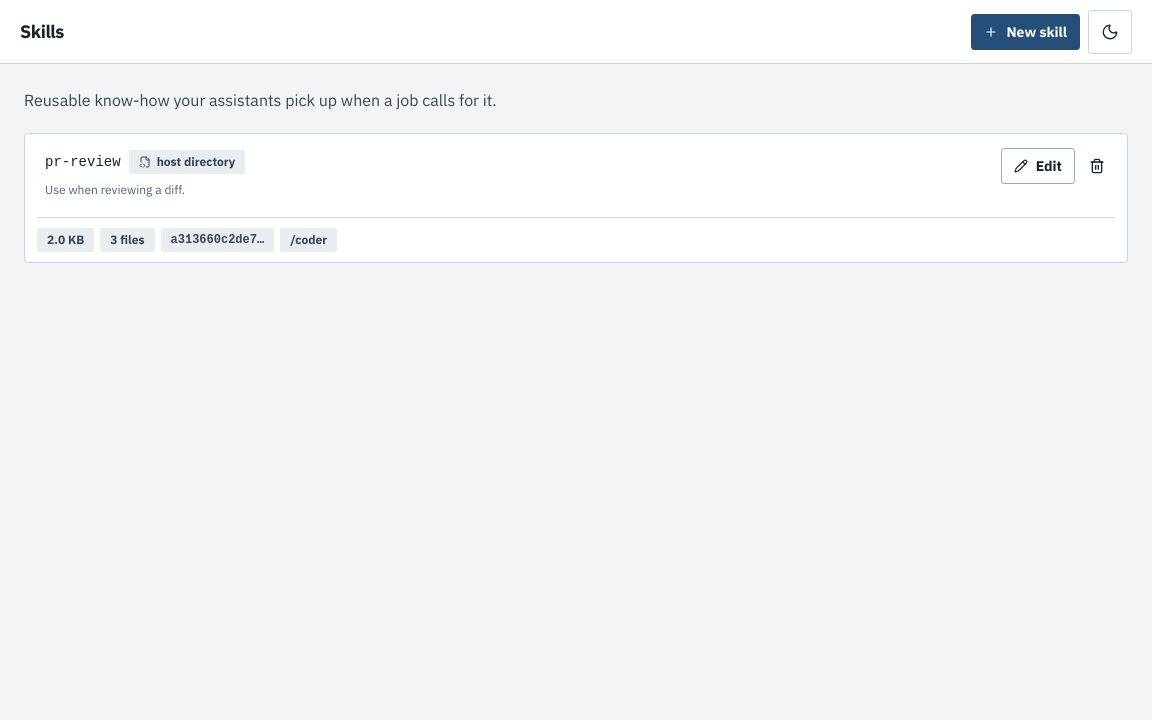
Test case: SkillsPanel › does not offer to save a multi-file skill as SKILL.md alone
Step 1. Click the button with aria-label "Edit pr-review" → (1038, 166), box x1=1001 y1=148 x2=1075 y2=184
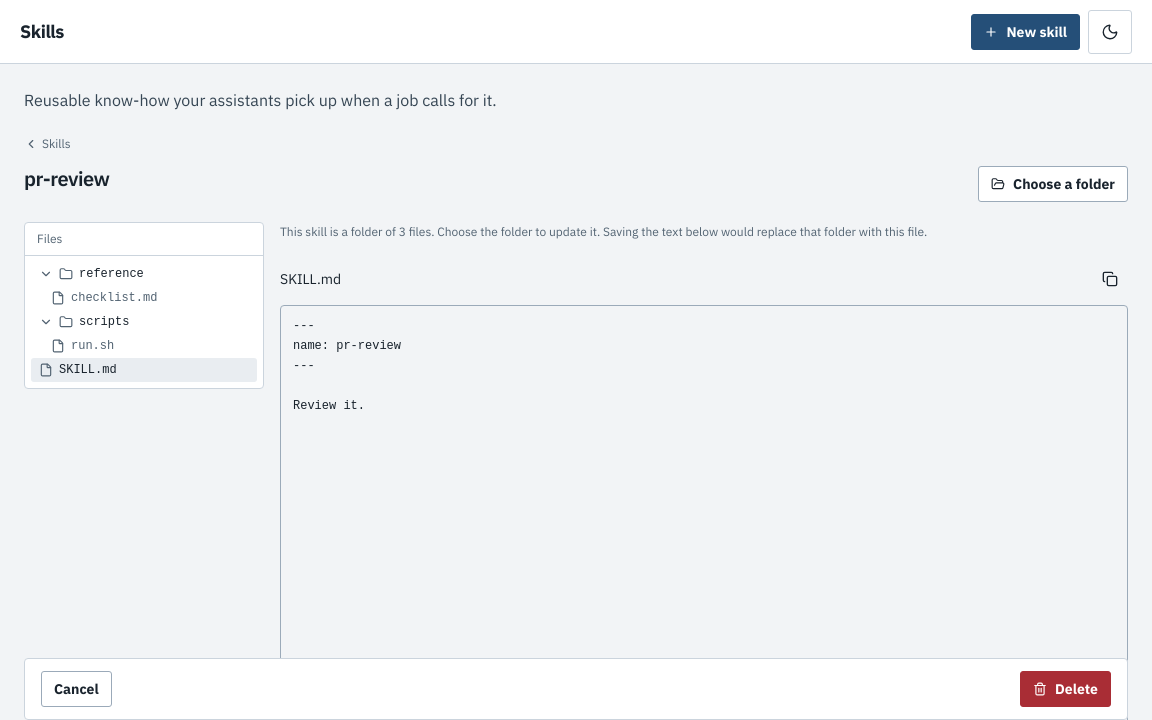
Now the text with test id "skill-folder-note" shows "folder of 3 files", box x1=280 y1=224 x2=927 y2=239
Now the button with aria-label "Open reference/checklist.md" is shown, box x1=31 y1=286 x2=257 y2=310
Now the button with aria-label "Open scripts/run.sh" is shown
Step 2. Click the button with aria-label "Open scripts/run.sh" → (144, 346), box x1=31 y1=334 x2=257 y2=358
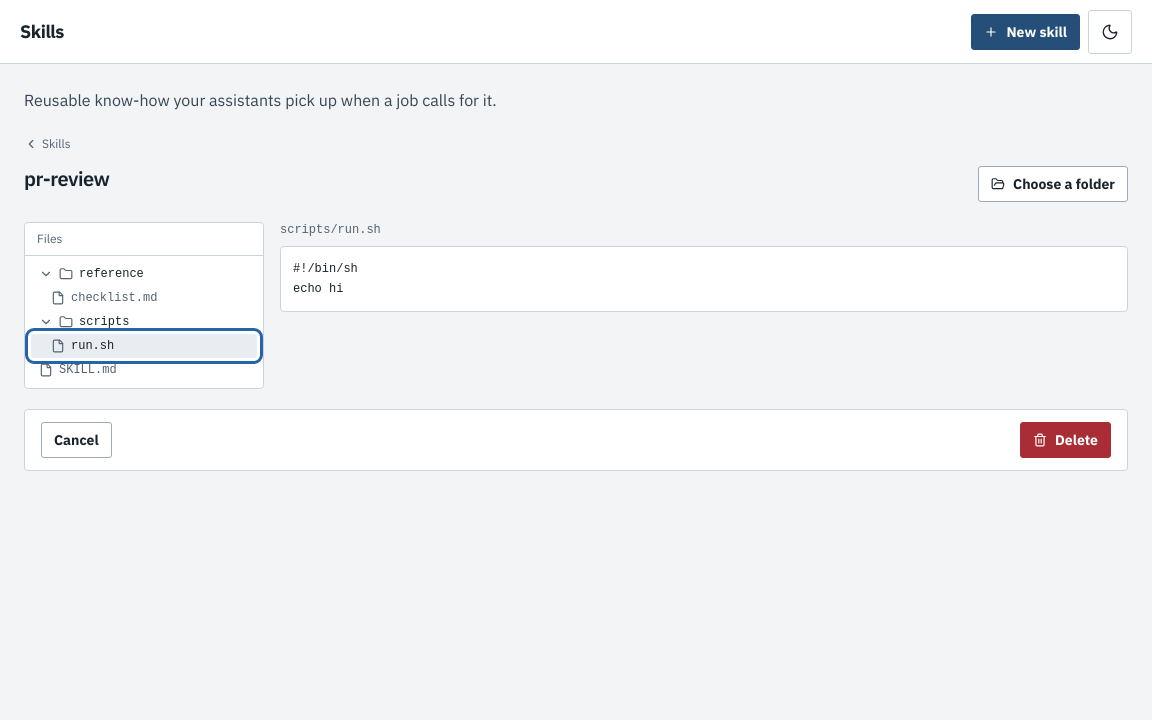
Now the button "Choose a folder" is shown, box x1=978 y1=166 x2=1128 y2=202
Now the text with test id "skill-file-body" shows "echo hi", box x1=293 y1=262 x2=358 y2=296
